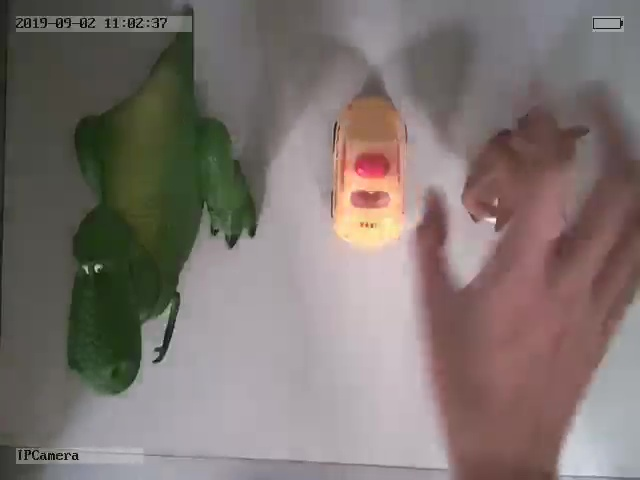car: (325, 88, 412, 248)
rex: (61, 33, 260, 397)
